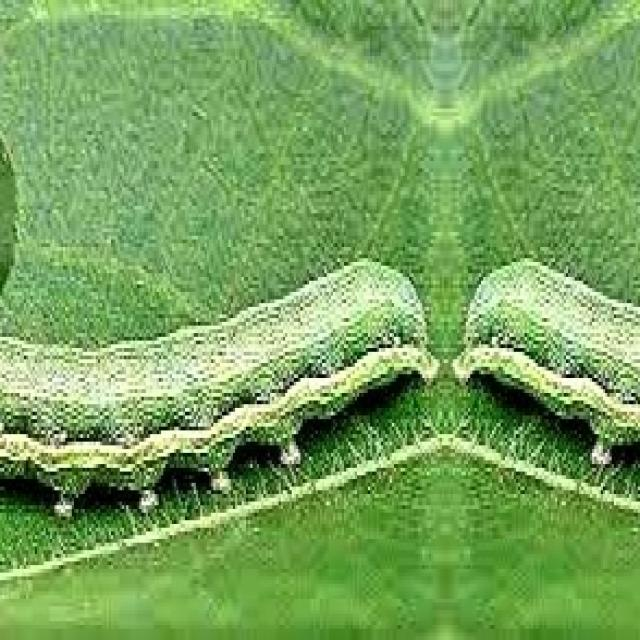Armyworm: (1, 245, 443, 518), (459, 226, 640, 558)
